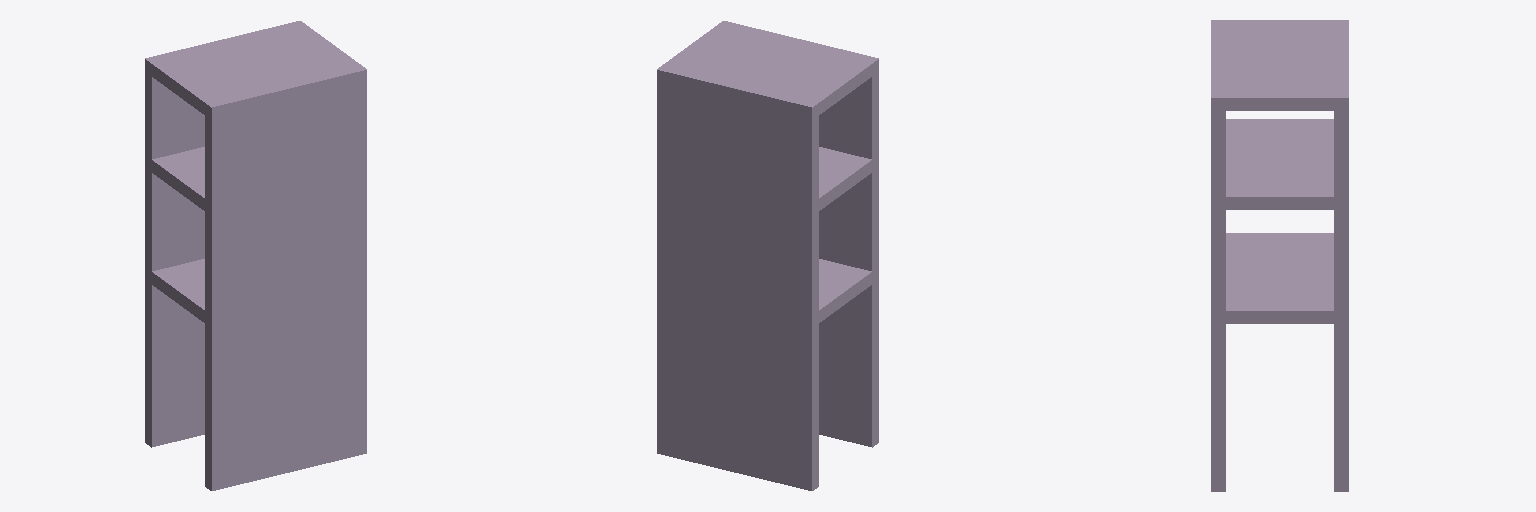
robot.urdf — cabinet.obj:
<?xml version="1.0" encoding="utf-8"?>
<robot name="cabinet.obj">
	<link name="_name">
		<visual>
			<origin xyz="0.0 0.0 0.0" rpy="0 0 0" />
			<geometry>
				<mesh filename="cabinet.obj" scale="0.001 0.001 0.001" />
			</geometry>
			<material name="texture">
				<color rgba="0.7 0.65 0.73 1.0" />
			</material>
		</visual>
		<collision>
			<geometry>
				<mesh filename="cabinet_vhacd.obj" scale="0.001 0.001 0.001" />
			</geometry>
		<origin xyz="0.0 0.0 0.0" rpy="0 0 0" /></collision>
		<inertial>
			<mass value="0.3" />
			<inertia ixx="0.6" ixy="0.0" ixz="0.0" iyy="0.5" iyz="-0.0" izz="0.08" />
		</inertial>
	</link>
</robot>

--- What the picture shows (computed from the rendered views, not written in the file) ---
The picture shows the robot from 3 angles, left to right: view 1: azimuth 30°, elevation 25°; view 2: azimuth 150°, elevation 25°; view 3: azimuth 270°, elevation 25°; orthographic projection.
Model cabinet.obj with 1 links and 0 joints (none), rooted at _name, posed every joint at zero.
Links seen in each view (by area): view 1: _name; view 2: _name; view 3: _name.
Link boxes in pixels (x1,y1,x2,y2): _name: [145, 21, 366, 490]; _name: [657, 21, 878, 490]; _name: [1211, 20, 1348, 491].
Size in the robot's own frame: 0.051 by 0.038 by 0.12 metres.
Meshes: 1 distinct files referenced, 1 mesh visuals loaded (1 OBJ).